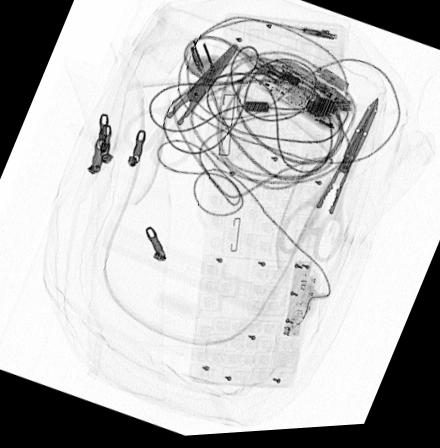Scissors: (276, 101, 380, 268), (122, 47, 238, 173)
